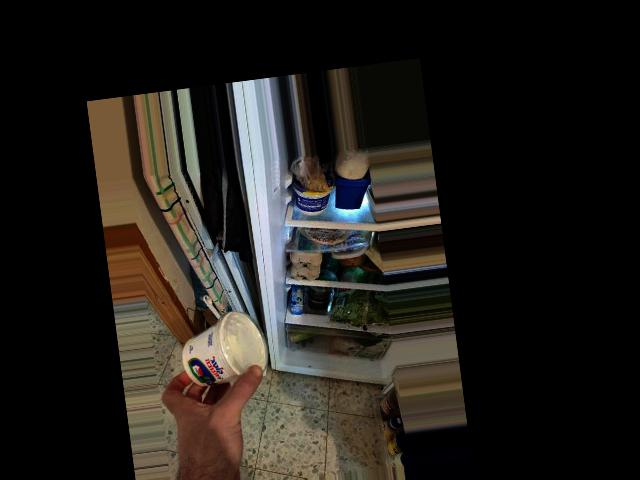cotage: (176, 304, 256, 396)
